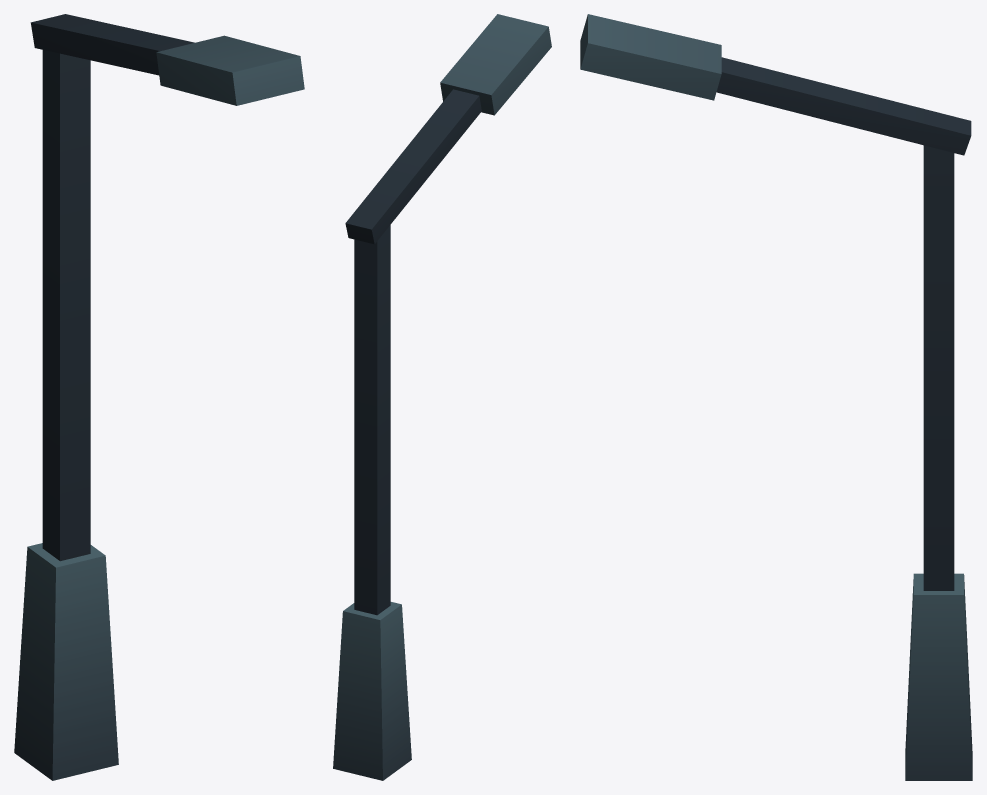
File: Flashlight_2.fbx
3 renders of one model, left to right at view 1: azimuth 30°, elevation 25°; view 2: azimuth 150°, elevation 25°; view 3: azimuth 270°, elevation 25°, orthographic. The views are drawn at different scales.
Visible parts, largest first — view 1: Flashlight_2; view 2: Flashlight_2; view 3: Flashlight_2.
Part boxes in pixels (left/top/right/bottom): Flashlight_2: left=14, top=14, right=304, bottom=780; Flashlight_2: left=333, top=14, right=551, bottom=780; Flashlight_2: left=580, top=14, right=972, bottom=780.
Bounding box in the file's own units: 56.44 × 667 × 321.
